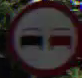No overtake: (16, 9, 76, 60)
